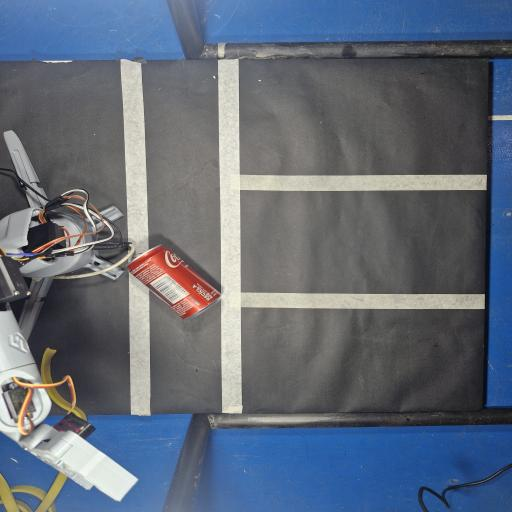lata: (128, 246, 220, 318)
